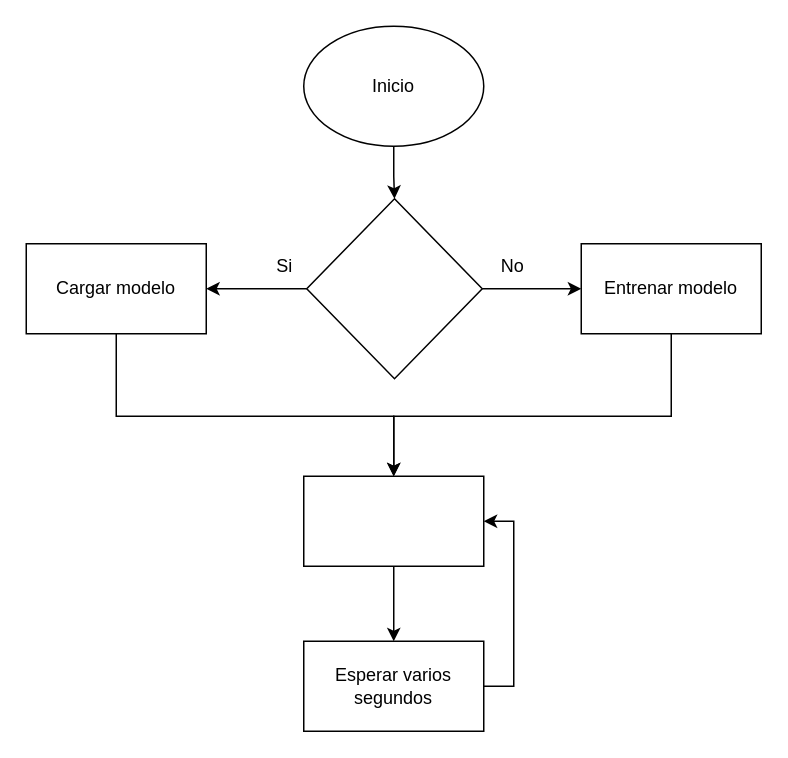
Some shapes in this 788 by 758 pixel diagram are drawn without their labels. Each missing label, with the box of its shape:
Predecir datos: (302, 475, 484, 566)
¿Cargar modelo desde archivo?: (305, 197, 482, 379)
